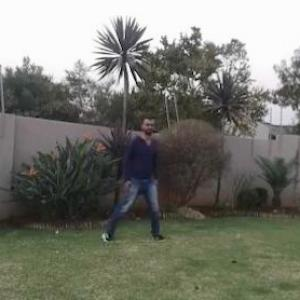follow: (125, 110, 160, 231)
